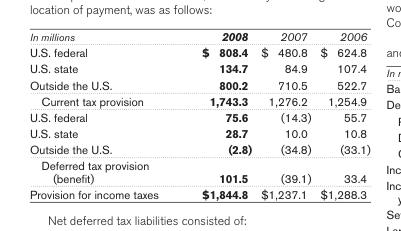table: (28, 29, 369, 200)
table column: (28, 29, 179, 200), (179, 29, 255, 200), (255, 29, 314, 200), (314, 29, 369, 200)
table column header: (28, 29, 369, 44)
table row: (28, 157, 369, 185), (28, 140, 369, 157), (28, 44, 369, 60), (28, 60, 369, 76), (28, 76, 369, 92), (28, 92, 369, 108), (28, 108, 369, 124), (28, 124, 369, 140), (28, 29, 369, 44), (28, 185, 369, 200)
